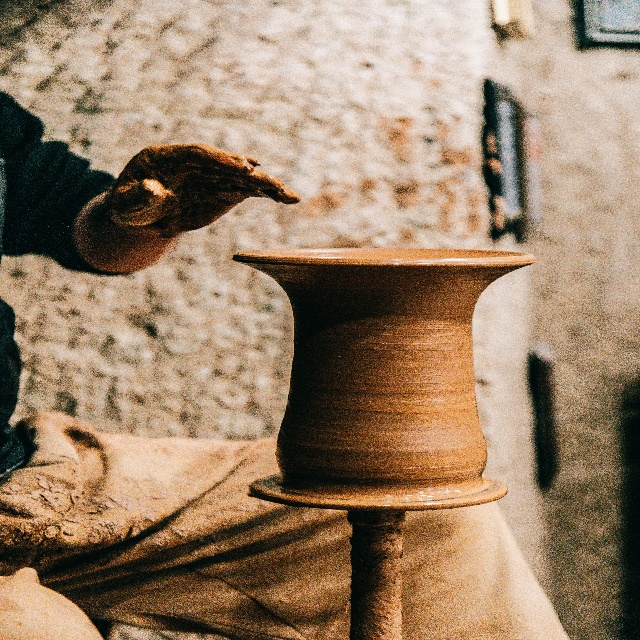Sin_guantes: (106, 142, 298, 238)
